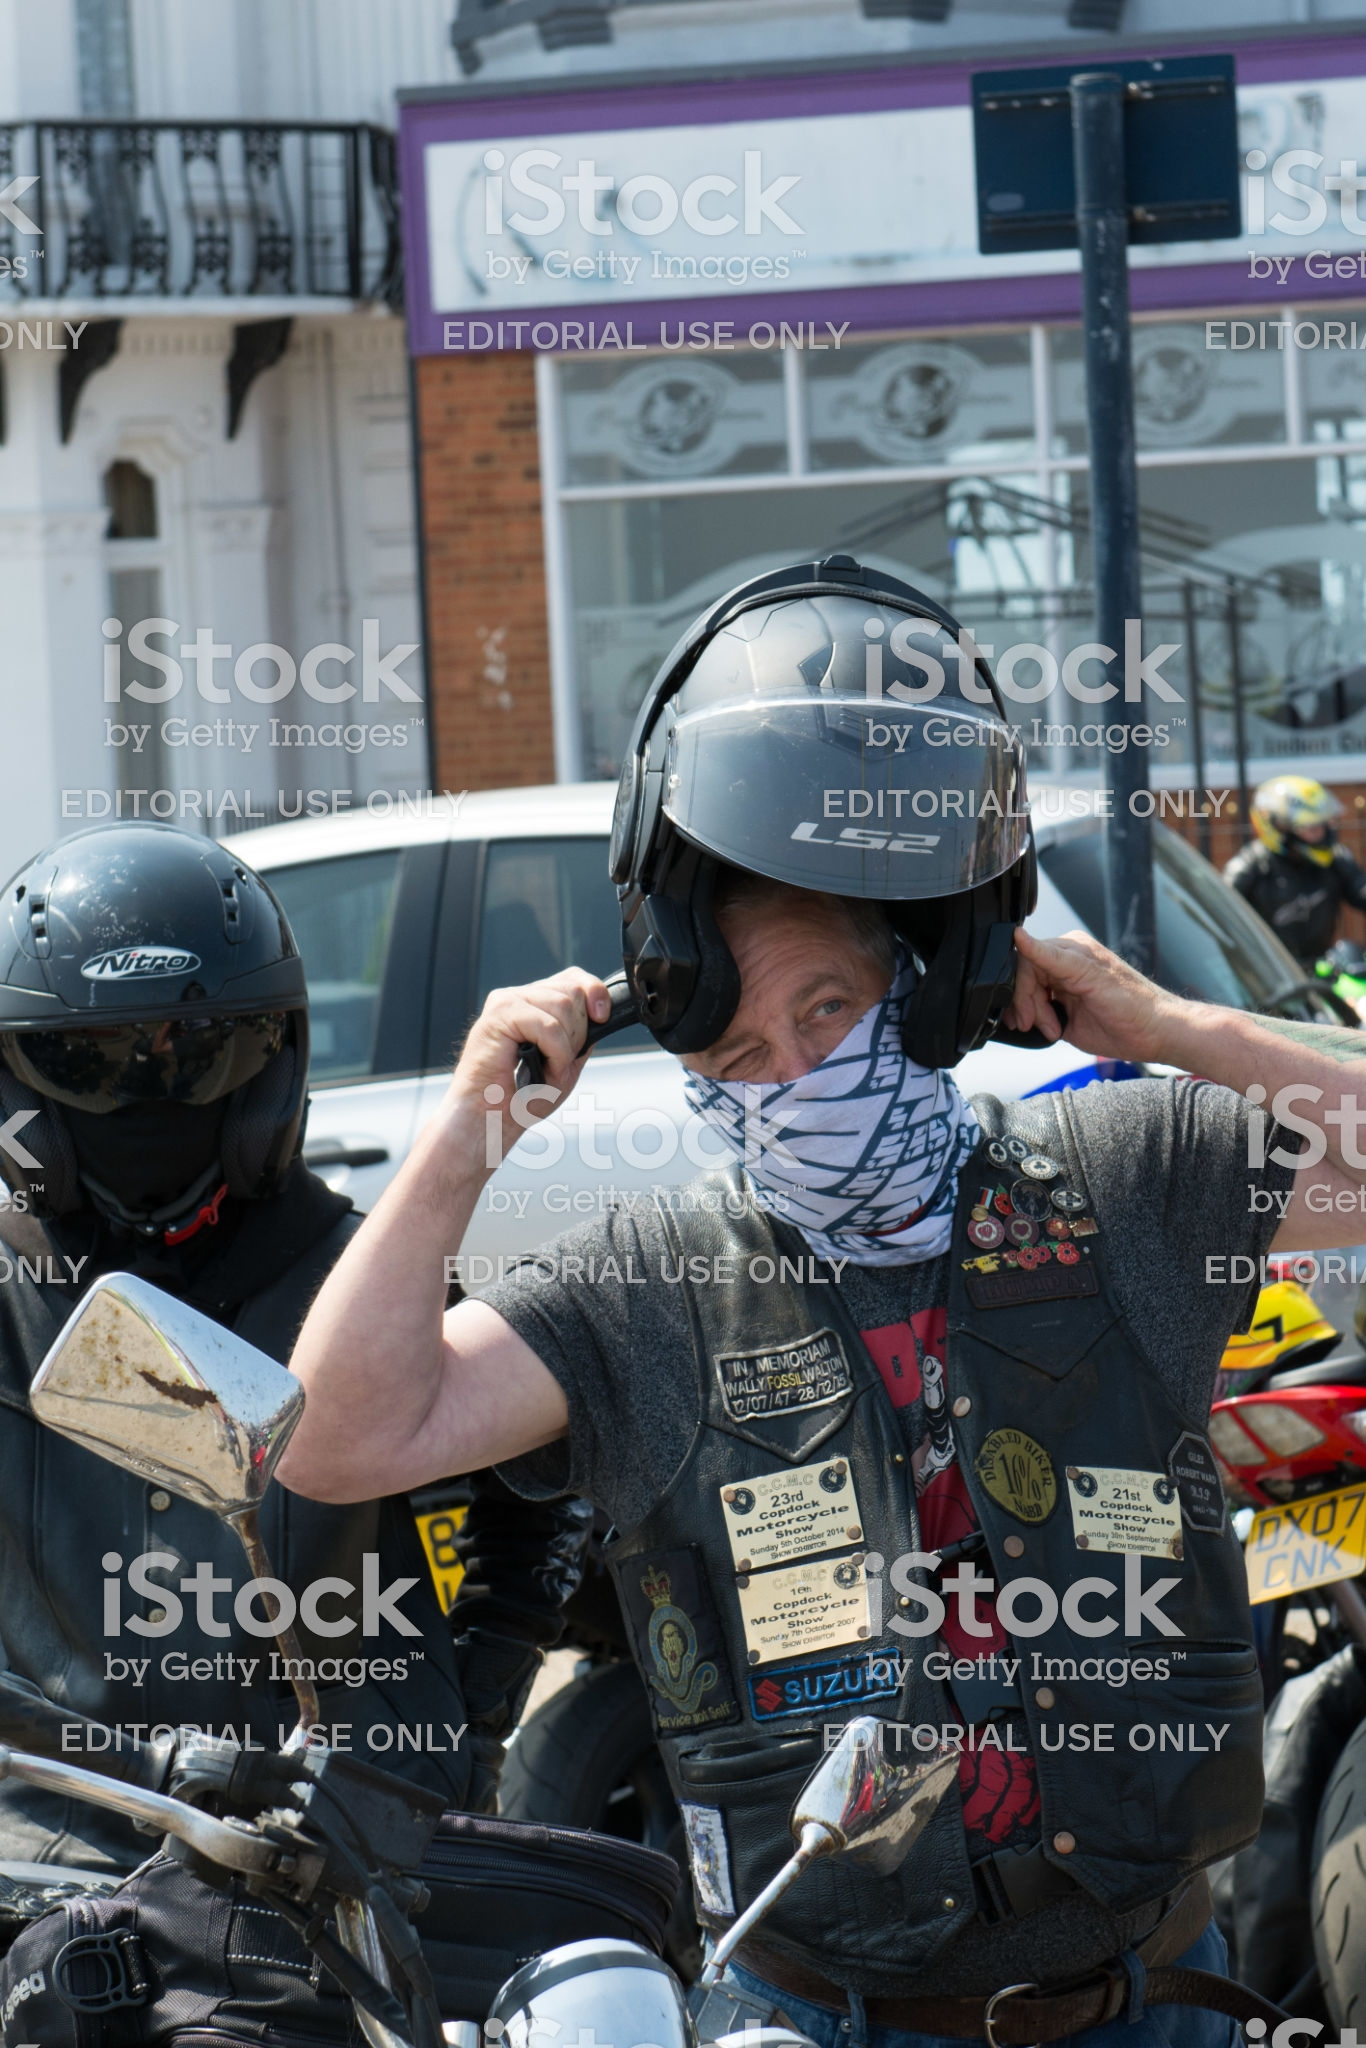helmet: (563, 553, 992, 969), (2, 840, 317, 1240)
